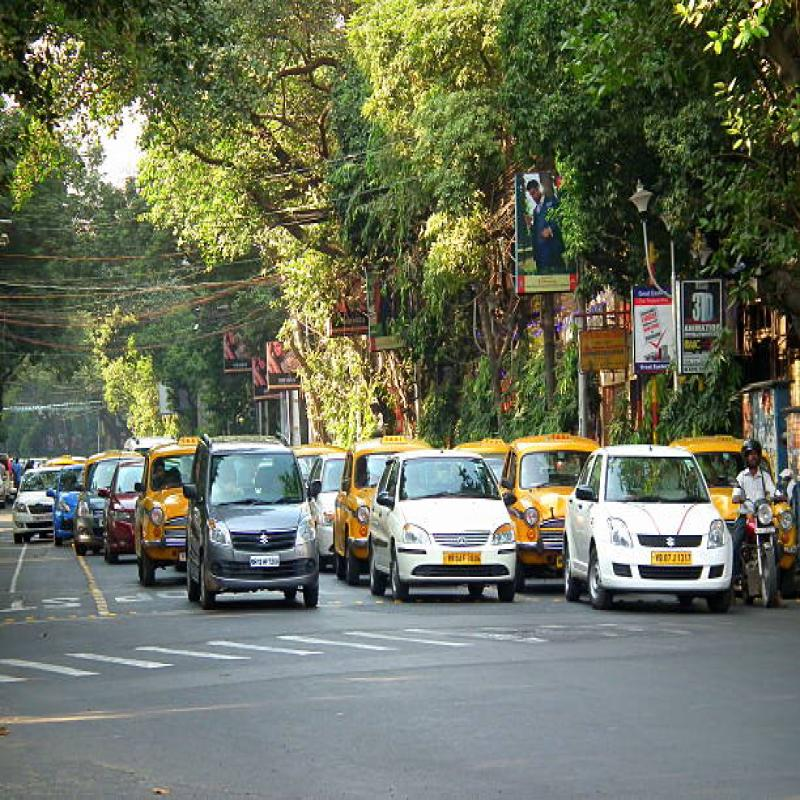car: (191, 407, 321, 642), (571, 446, 724, 612), (390, 449, 509, 608), (338, 448, 443, 584), (508, 420, 606, 556), (140, 438, 226, 553)
